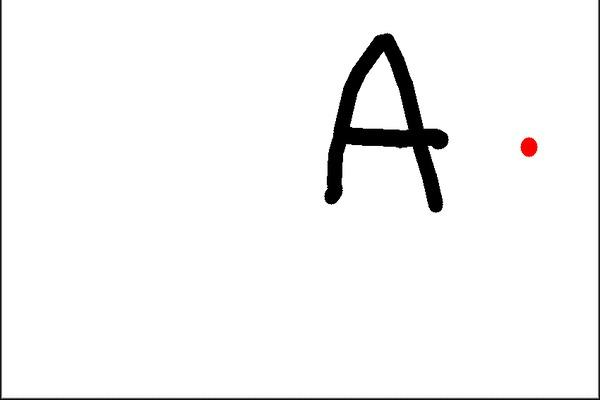A: (315, 24, 452, 215)
